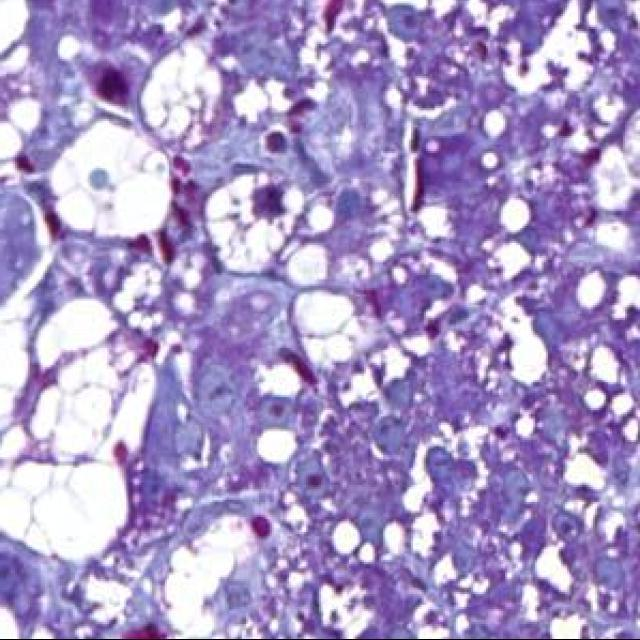ballooning: (0, 297, 155, 559), (50, 119, 170, 238), (206, 173, 304, 272), (140, 43, 221, 148)
